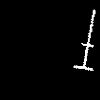double_crochet: (74, 10, 94, 70)
